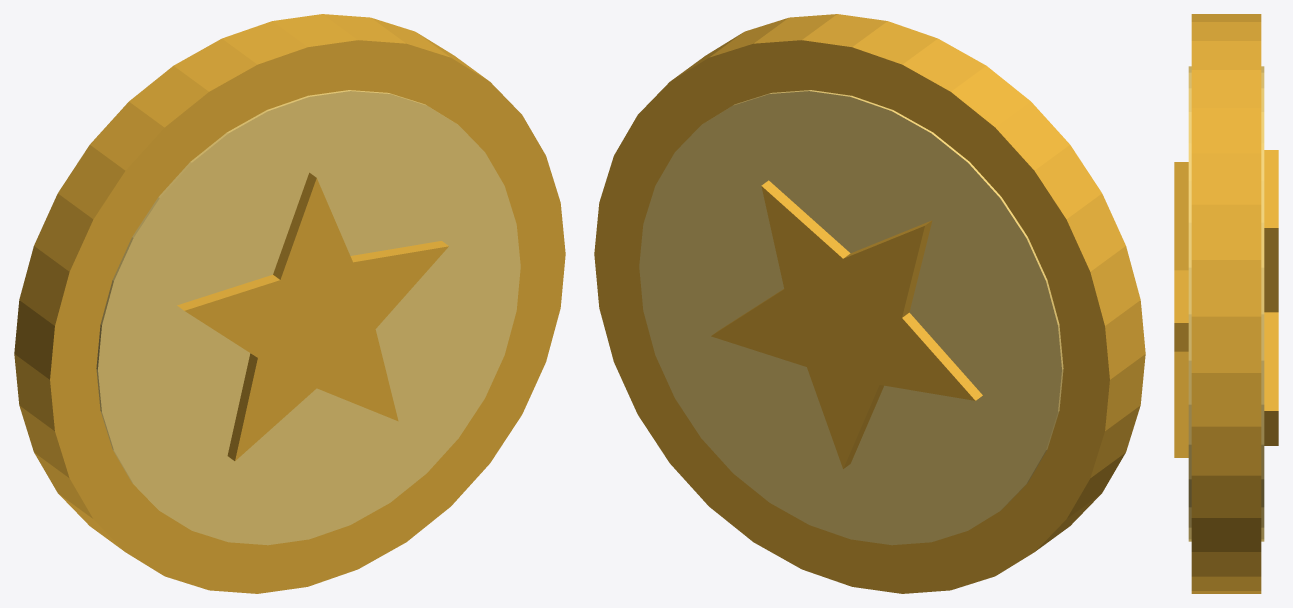
Rendered from coin.glb.
3 renders of one model, left to right at view 1: azimuth 30°, elevation 25°; view 2: azimuth 150°, elevation 25°; view 3: azimuth 270°, elevation 25°, orthographic. The views are drawn at different scales.
Parts seen in each view (by area): view 1: coin_body; view 2: coin_body; view 3: coin_body.
Part boxes in pixels (x1,y1,x2,y2): coin_body: (14,14,565,593); coin_body: (594,14,1145,593); coin_body: (1174,14,1278,593).
Bounding box in the file's own units: 1 × 1 × 0.18.
Materials: 1 (1 with a texture image).
